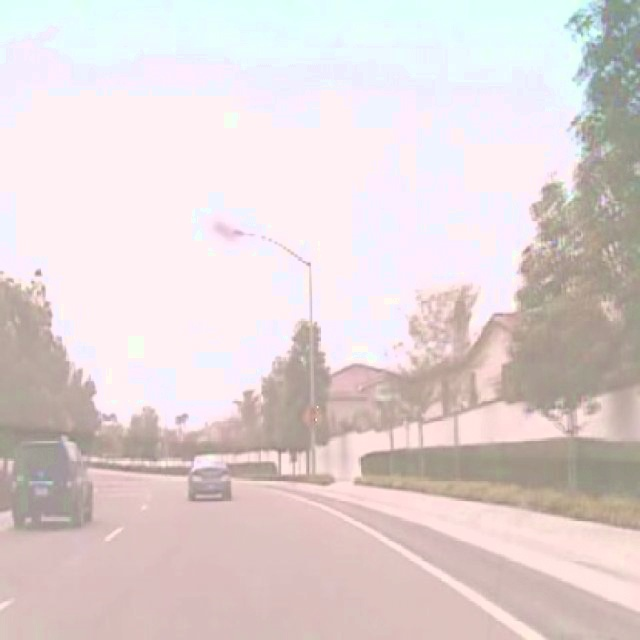signalAhead: (302, 402, 322, 431)
